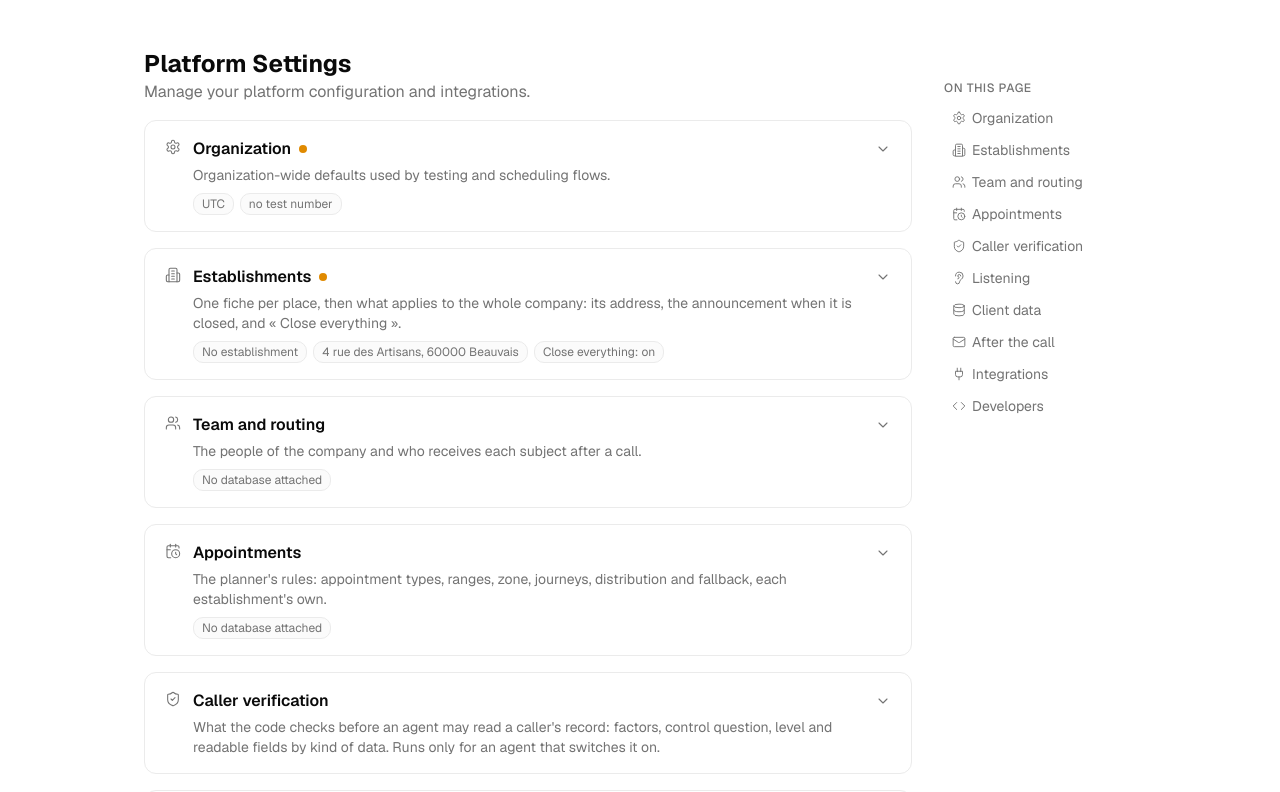
it: [.mark] the Platform Settings page in themes › [l-agent-travaille] the Establishments theme lists them and opens their modal (E4)
This screenshot has width=1280, height=792.
Click the button that starts with "Establishments": (528, 314) [145,249,911,379]
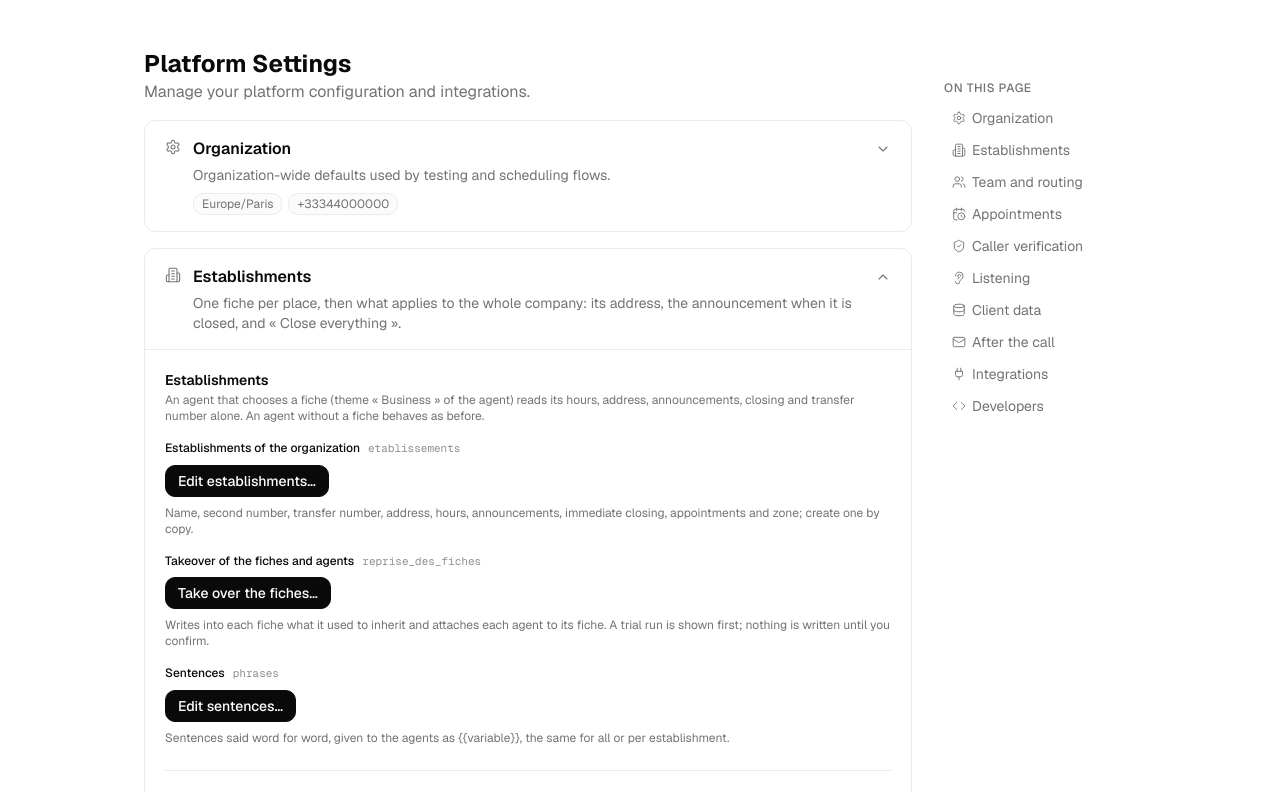
Result: the element that starts with "Establishments of the organization" is shown at [165,440,891,536]
Result: the element that starts with "Establishments" shows "Establishments of the organization" at [165,440,360,456]
Click the button with test id "ouvrir-etablissements": (247, 480) [165,464,329,496]
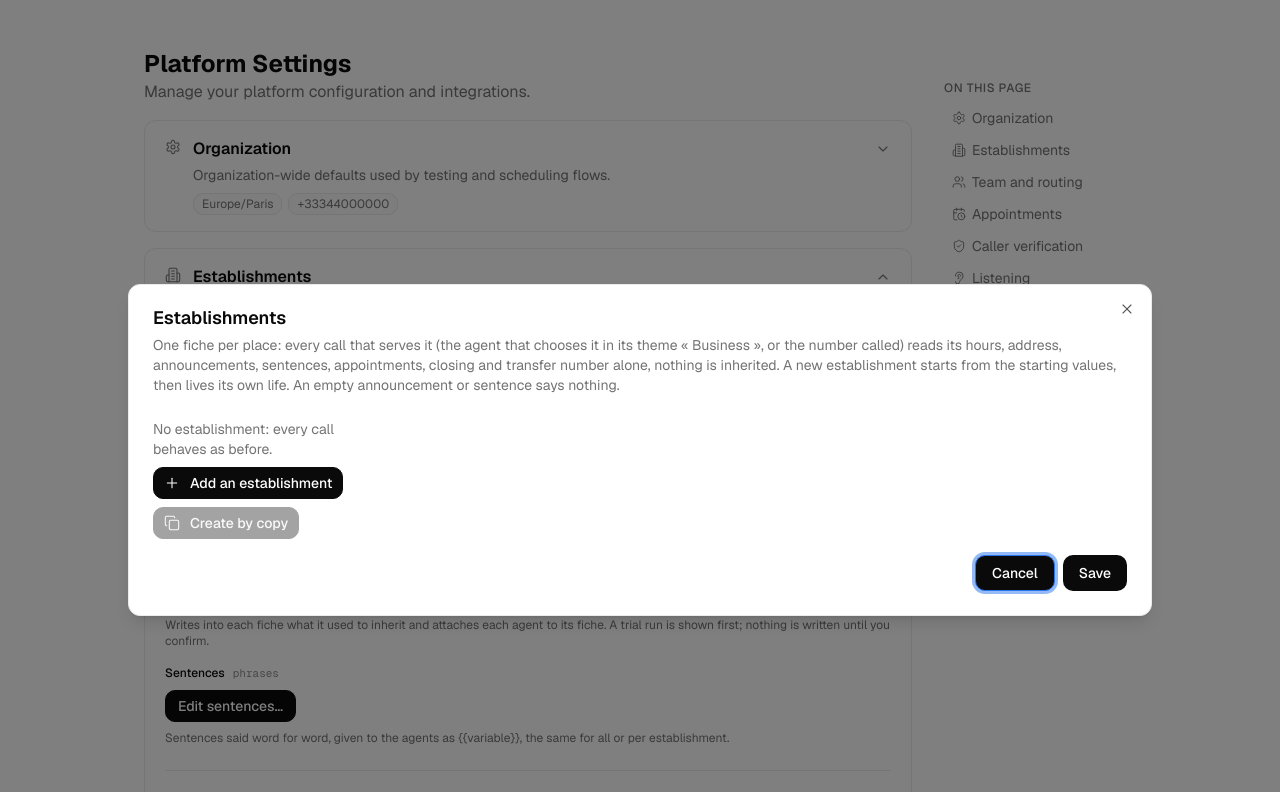
Result: the button with test id "ajouter-etablissement" is shown at [153,467,343,499]
